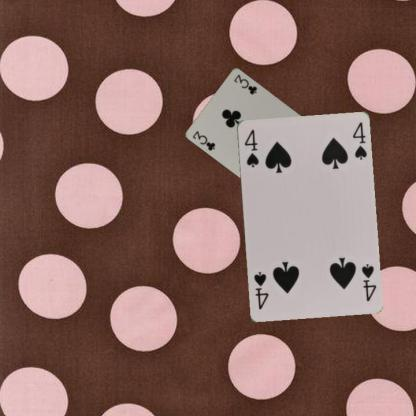3c: (190, 128, 217, 152)
4s: (358, 261, 378, 302), (242, 127, 260, 168)
